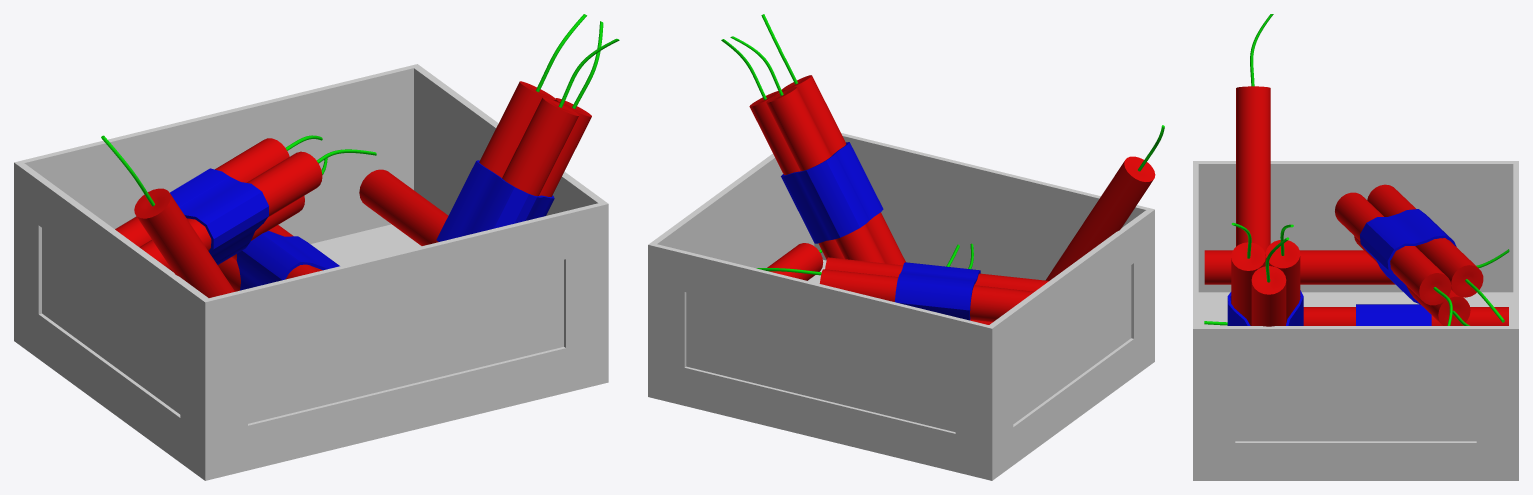
File: TntBox.fbx
3 renders of one model, left to right at view 1: azimuth 30°, elevation 25°; view 2: azimuth 150°, elevation 25°; view 3: azimuth 270°, elevation 25°, orthographic. The views are drawn at different scales.
Parts seen in each view (by area): view 1: Cube.002, Cylinder.007, Cylinder.014, Cylinder.012, Cylinder.013, Cylinder.008; view 2: Cube.002, Cylinder.007, Cylinder.014, Cylinder.012, Cylinder.008; view 3: Cube.002, Cylinder.014, Cylinder.007, Cylinder.012, Cylinder.011, Cylinder.013.
Part boxes in pixels (left/top/right/bottom): Cube.002: left=14, top=64, right=608, bottom=480; Cylinder.007: left=436, top=14, right=619, bottom=241; Cylinder.014: left=115, top=135, right=376, bottom=271; Cylinder.012: left=101, top=135, right=234, bottom=297; Cylinder.013: left=218, top=225, right=339, bottom=291; Cylinder.008: left=359, top=169, right=448, bottom=245; Cube.002: left=648, top=133, right=1154, bottom=480; Cylinder.007: left=721, top=14, right=905, bottom=265; Cylinder.014: left=756, top=257, right=1048, bottom=324; Cylinder.012: left=1045, top=125, right=1164, bottom=280; Cylinder.008: left=767, top=243, right=823, bottom=280; Cube.002: left=1193, top=161, right=1518, bottom=480; Cylinder.014: left=1335, top=184, right=1504, bottom=325; Cylinder.007: left=1227, top=222, right=1303, bottom=326; Cylinder.012: left=1236, top=14, right=1273, bottom=253; Cylinder.011: left=1204, top=249, right=1509, bottom=284; Cylinder.013: left=1204, top=304, right=1508, bottom=325.
Size of the model in its own units: 150 by 90.97 by 97.11.
